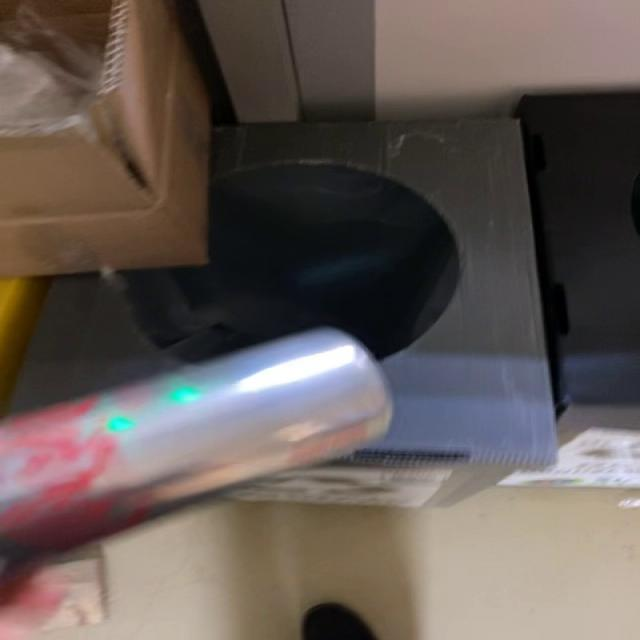bin: (12, 120, 557, 508)
metal: (1, 329, 392, 554)
